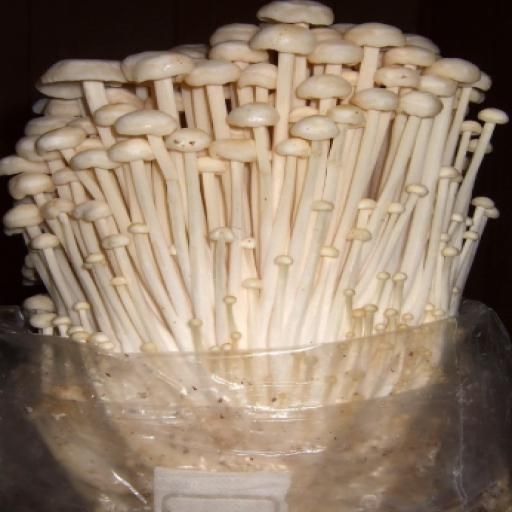Enoki Mushroom: (6, 0, 488, 308)
